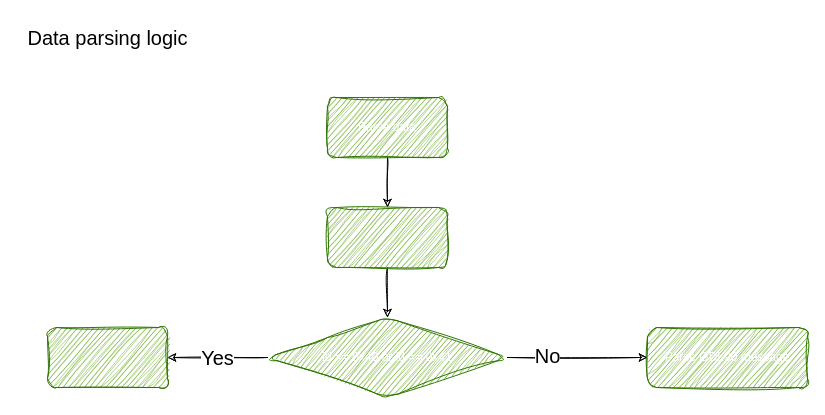
This 825x415 diagram has some shape labels left out. Each missing label, with the box of its shape:
get ID = data[0]: (326, 206, 448, 268)
Parse AIR message: (46, 326, 168, 388)
